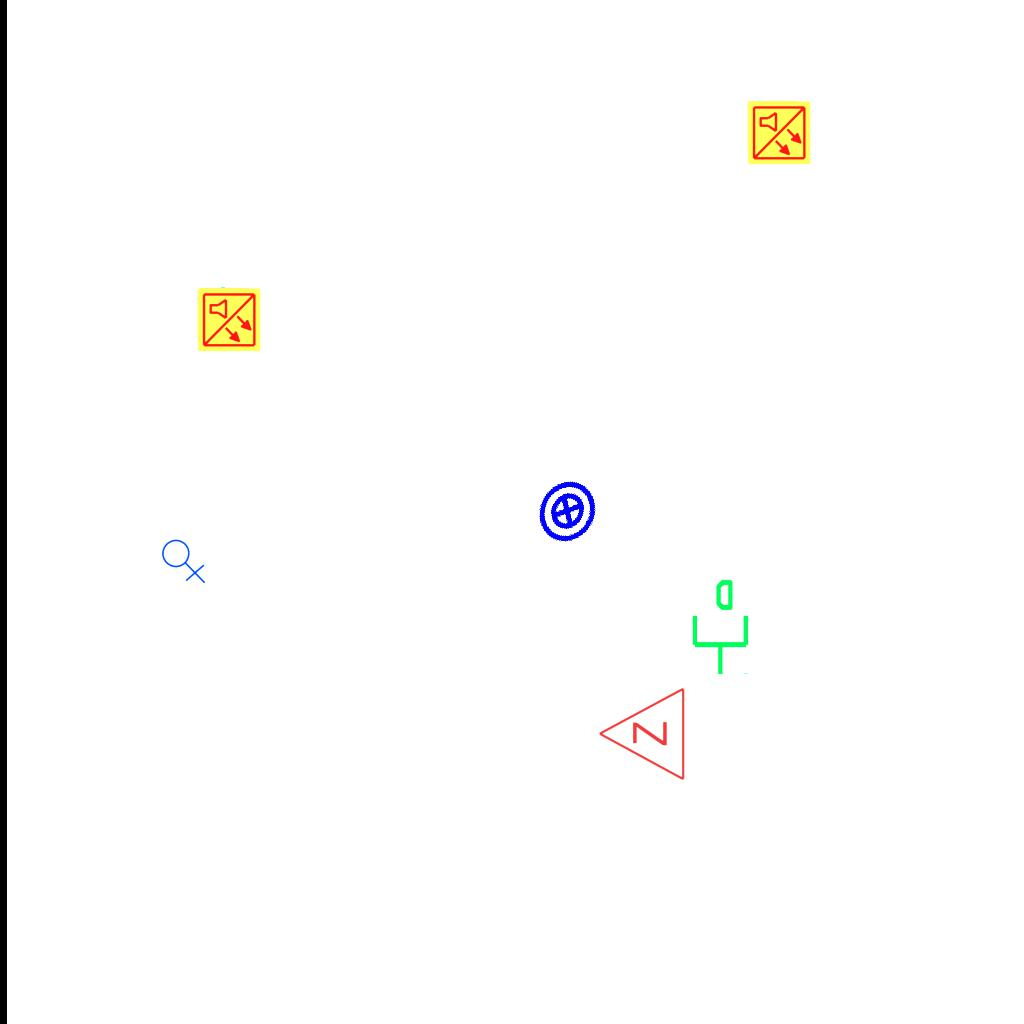Datenanschluss_einfach: (684, 577, 753, 677), (193, 274, 255, 330)
Elektroanschluss_allgemein_230V_Geraeteanschlussdose_230V: (161, 535, 208, 584)
OKW_Multisensormelder_(Kombination_optischer_Rauch-Kahlenmonoxid_Waerme-Melder): (746, 100, 812, 166), (196, 287, 262, 353)
Taster_beleuchtet: (522, 466, 612, 556)
Zimmersignalleuchte: (592, 686, 692, 784)
